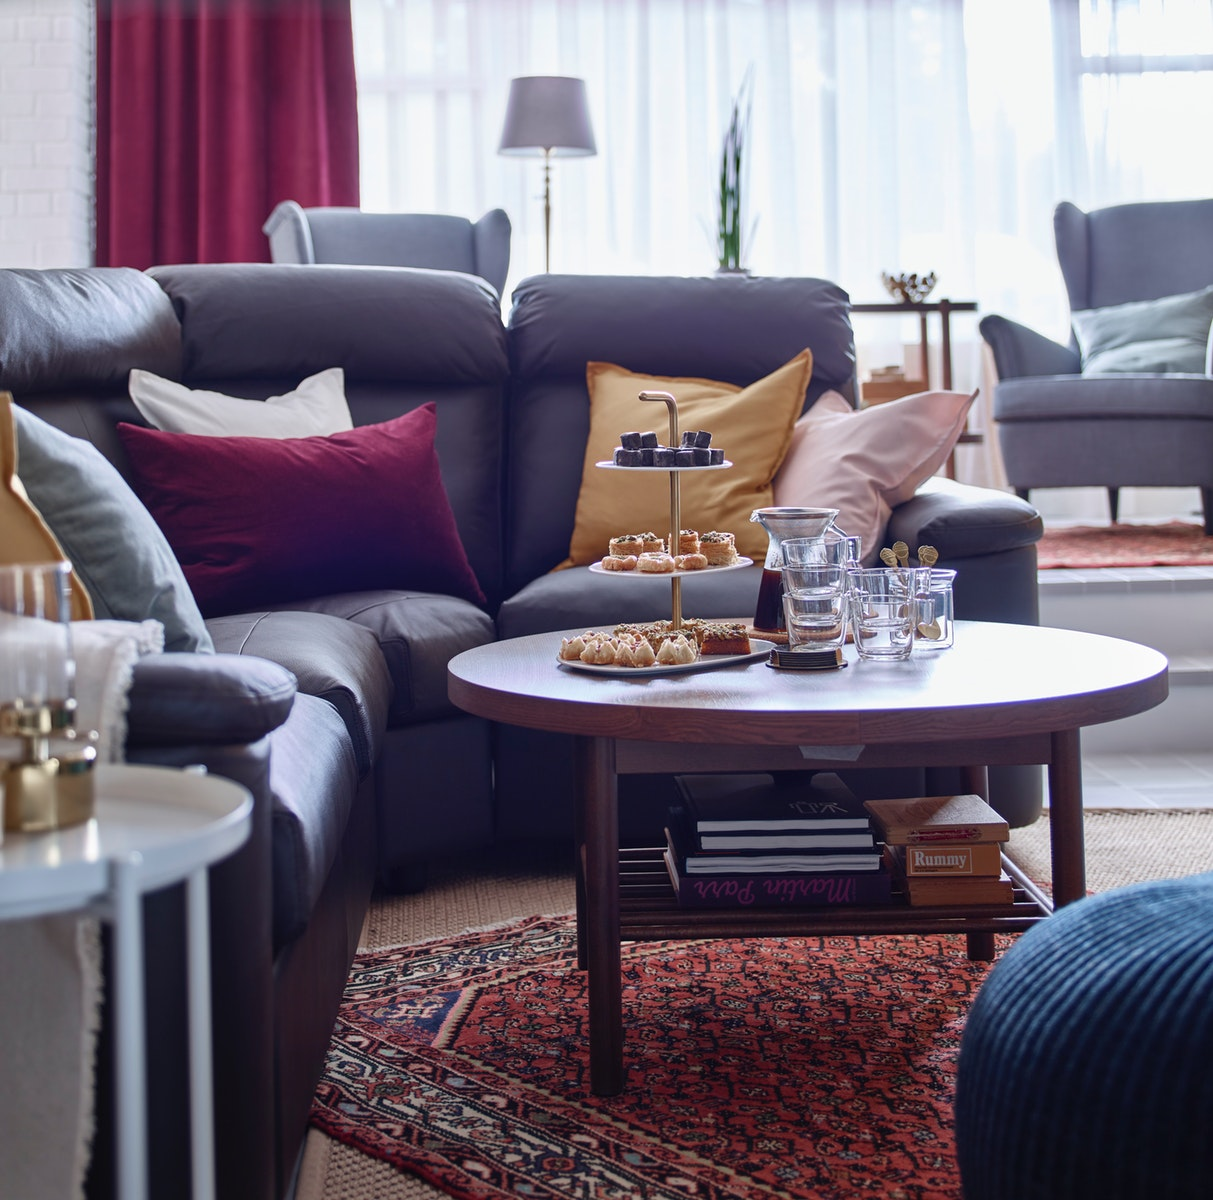buku: (687, 805, 887, 884)
cake: (605, 533, 745, 573), (617, 427, 730, 467)
kursi: (976, 170, 1213, 516)
lampu: (489, 85, 606, 275)
meaj: (438, 624, 1181, 927)
sova: (12, 259, 1051, 605)
tanaman: (685, 95, 782, 275)
